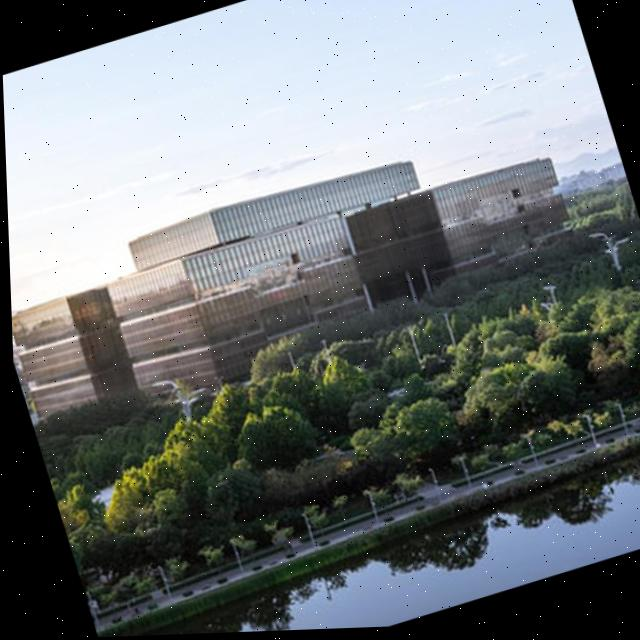building: (5, 101, 614, 454)
